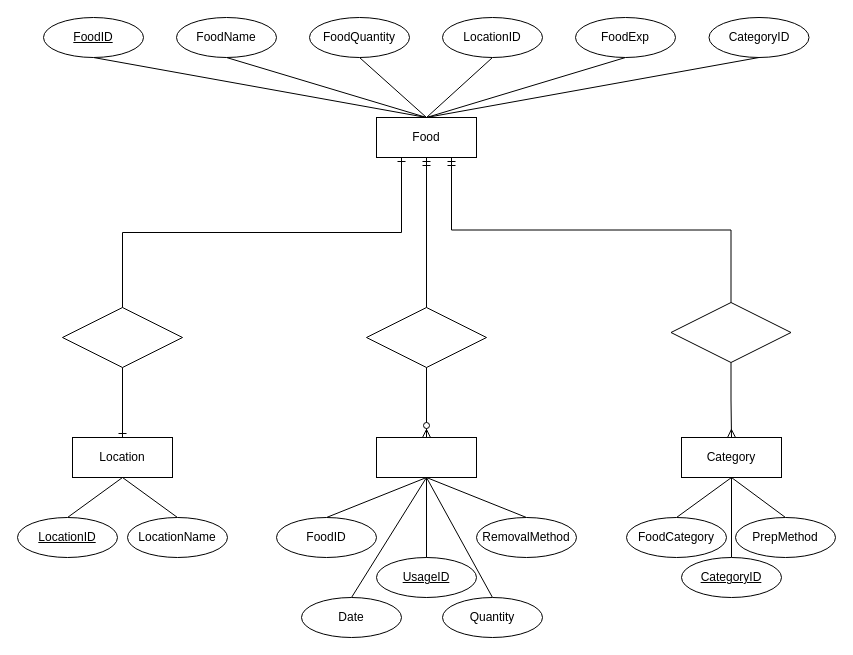
The diagram is 853 pixels wide and 655 high, and some of its shapes have lost their labels. The box of each missing label's shape, as (x1, y1, x2, y2) in pixels:
Food/Cat Ref: (670, 302, 791, 362)
Relationship: (62, 306, 182, 368)
Removing Food: (366, 306, 486, 368)
Usage: (376, 436, 476, 478)
